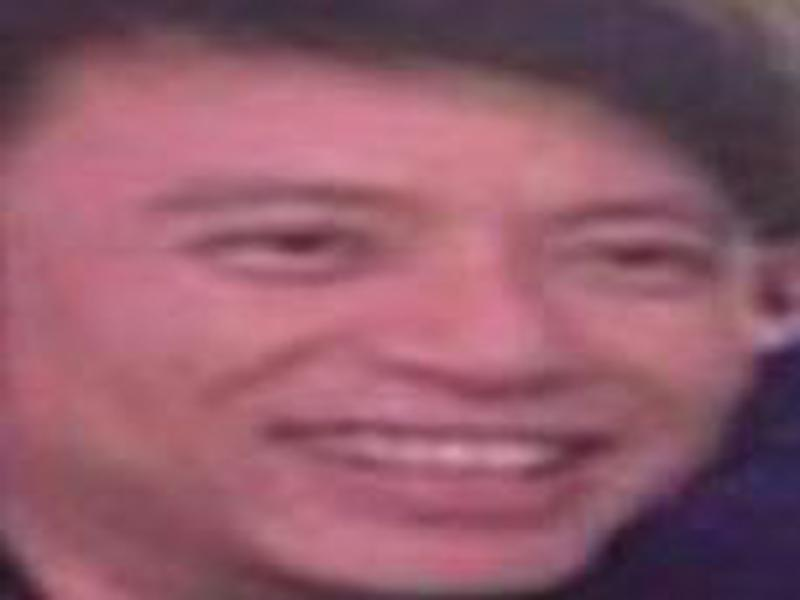without_mask: (68, 67, 753, 593)
